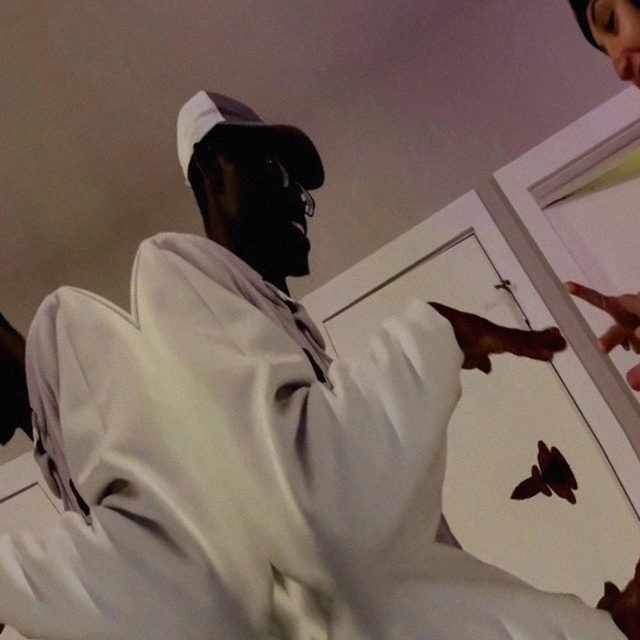Paper: (422, 249, 582, 419), (0, 557, 34, 640)
